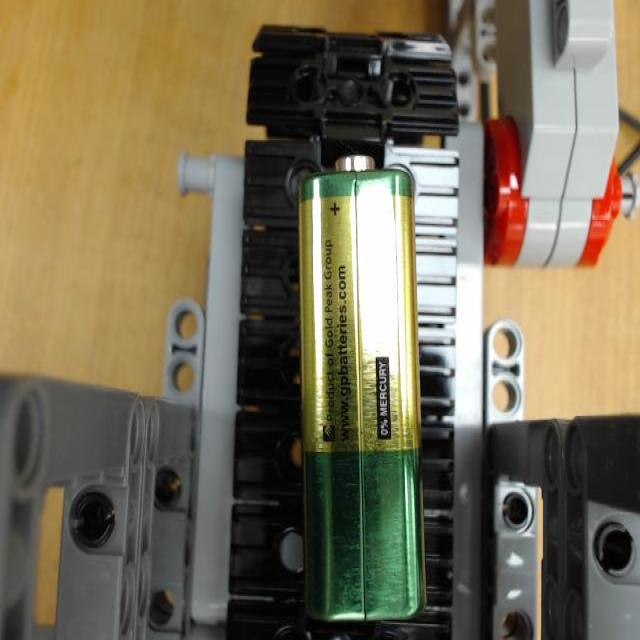9V: (298, 152, 428, 621)
